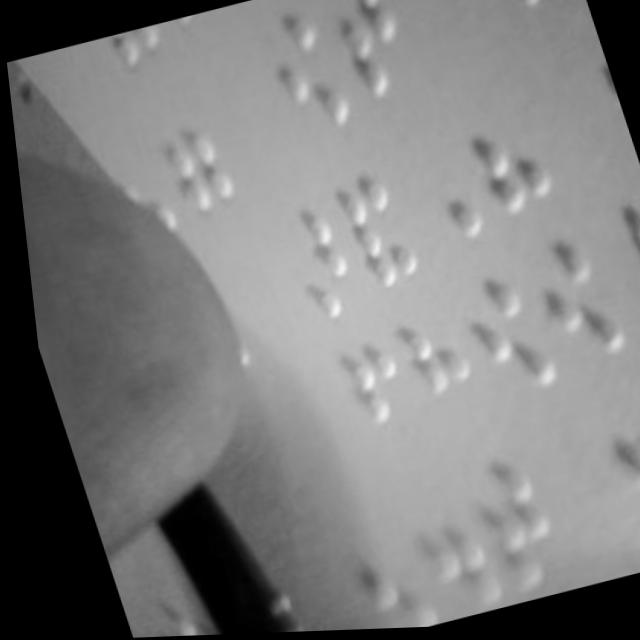braiile: (449, 93, 555, 233), (319, 167, 425, 306), (249, 7, 353, 145), (452, 456, 553, 595), (517, 237, 619, 372), (394, 488, 491, 625), (262, 198, 359, 335), (318, 509, 423, 632), (142, 94, 239, 226), (459, 274, 556, 405), (317, 0, 418, 122), (394, 134, 484, 260), (584, 385, 640, 530), (571, 31, 630, 157), (585, 207, 640, 339), (456, 0, 549, 30)
